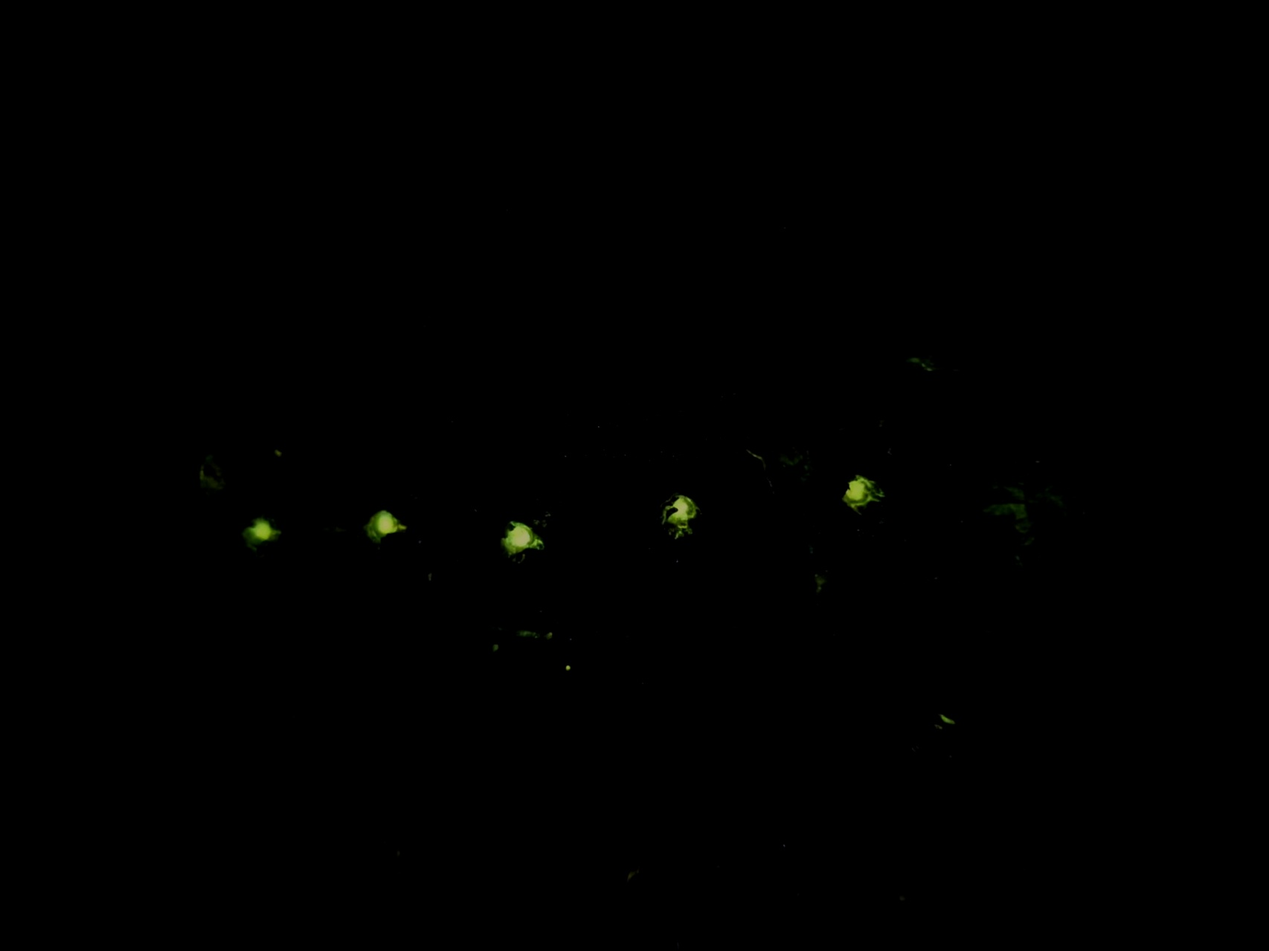Crater: (216, 504, 332, 586), (623, 476, 727, 557), (469, 497, 563, 576), (343, 480, 424, 569), (820, 457, 898, 525)
